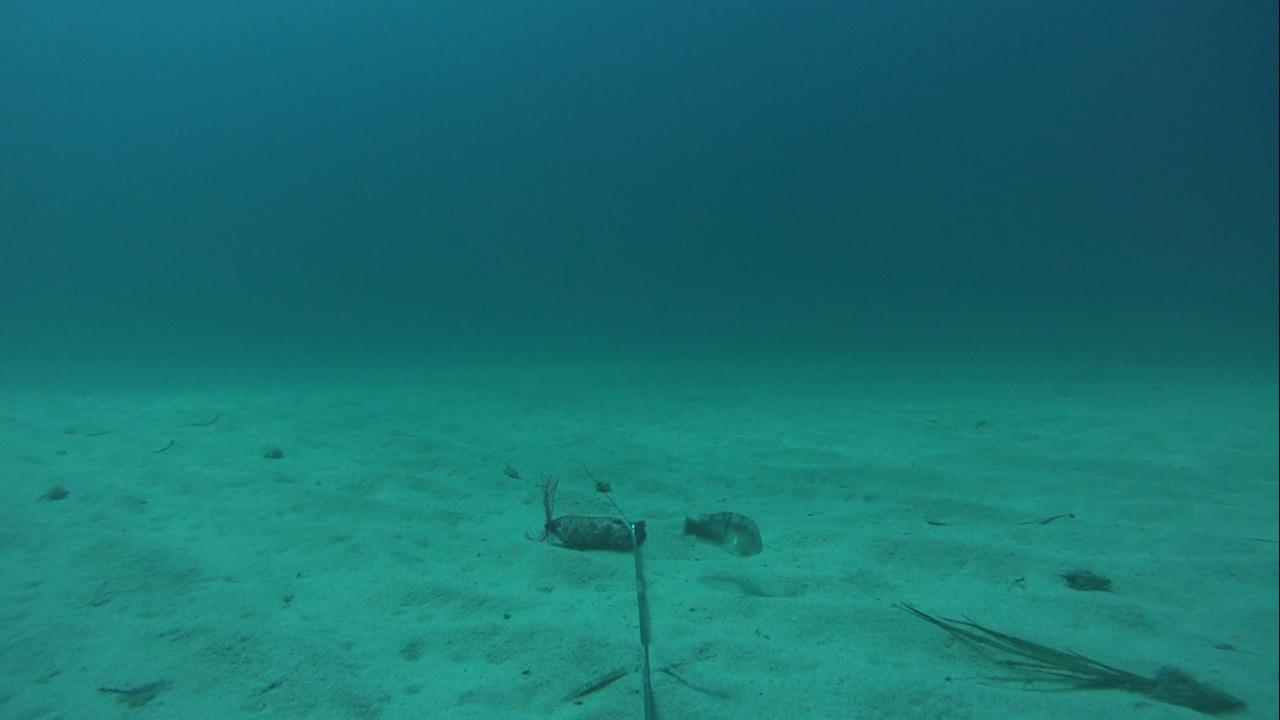raor: (676, 502, 768, 563)
